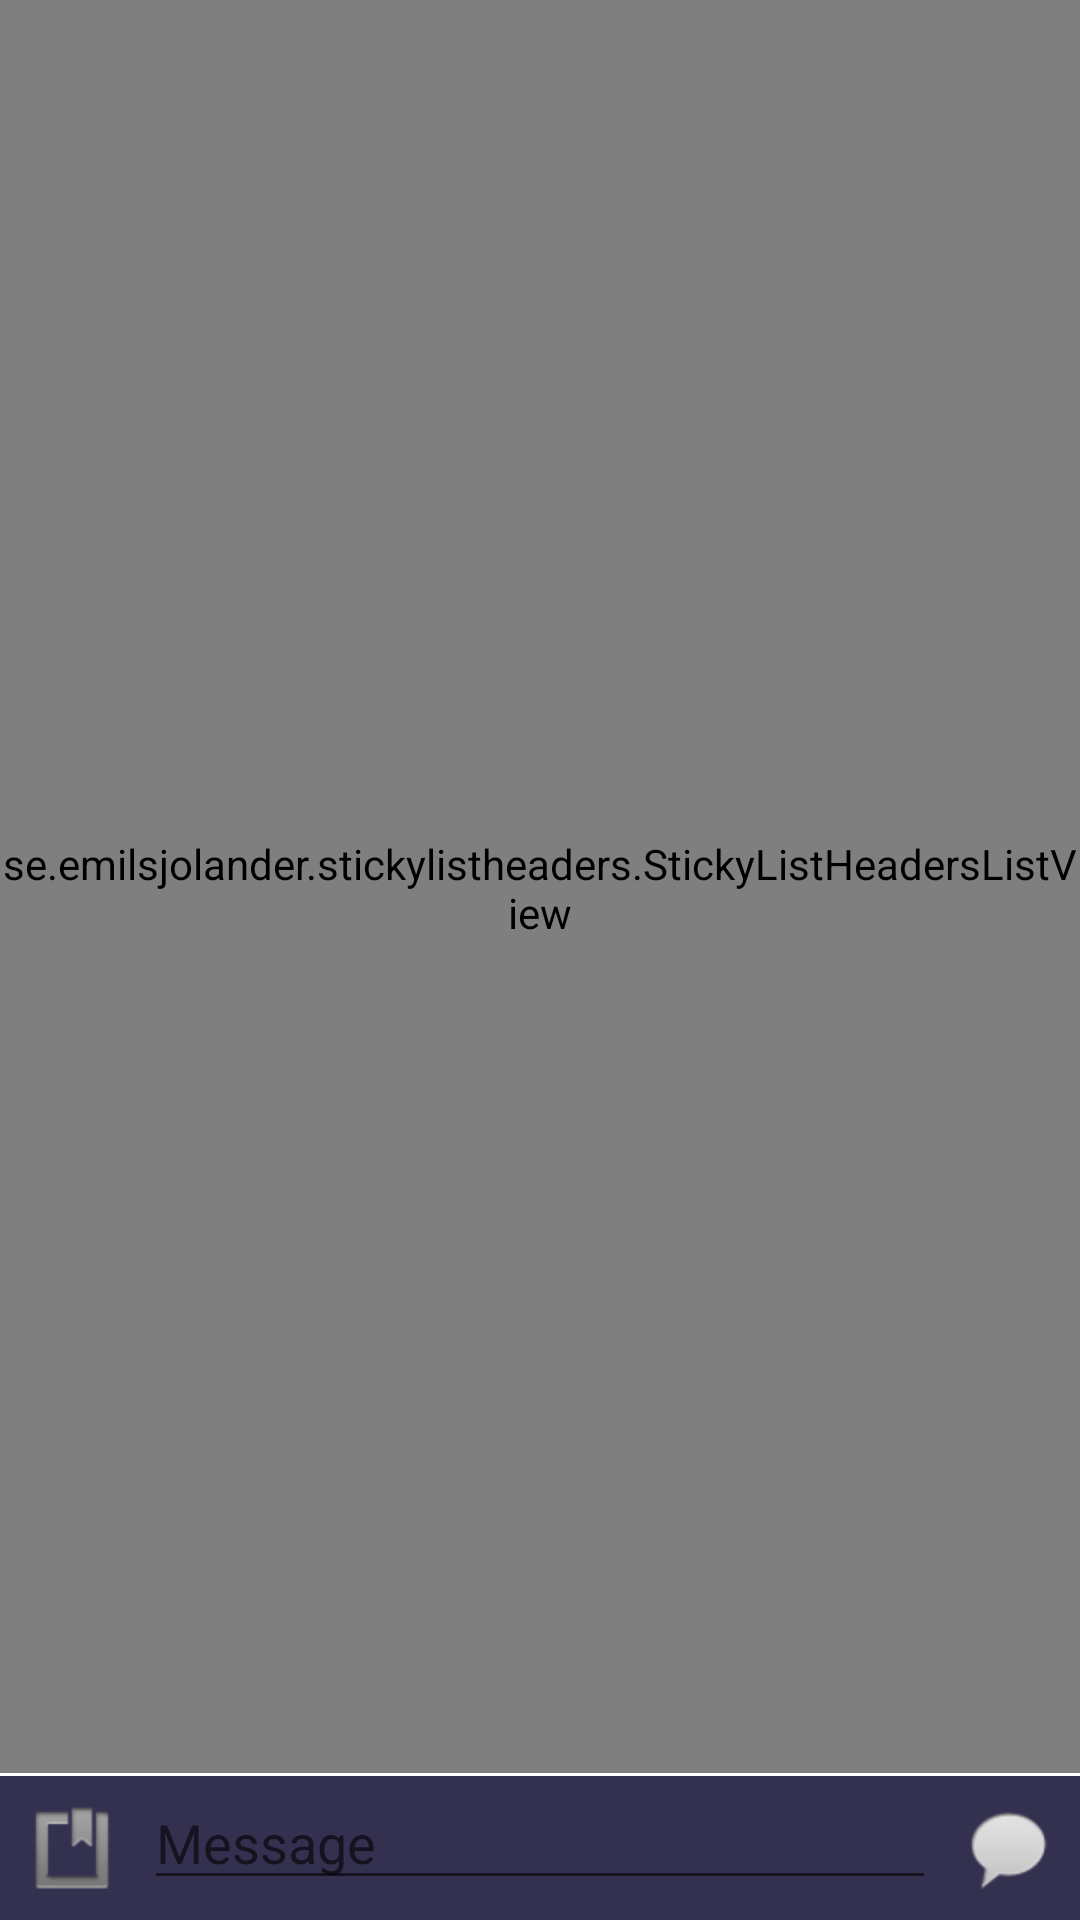

Icon bounding boxes for this 1080*1920 phone screenshot, format Rect(x1, y1, x2, y2):
sym action chat: Rect(971, 1813, 1046, 1888)
